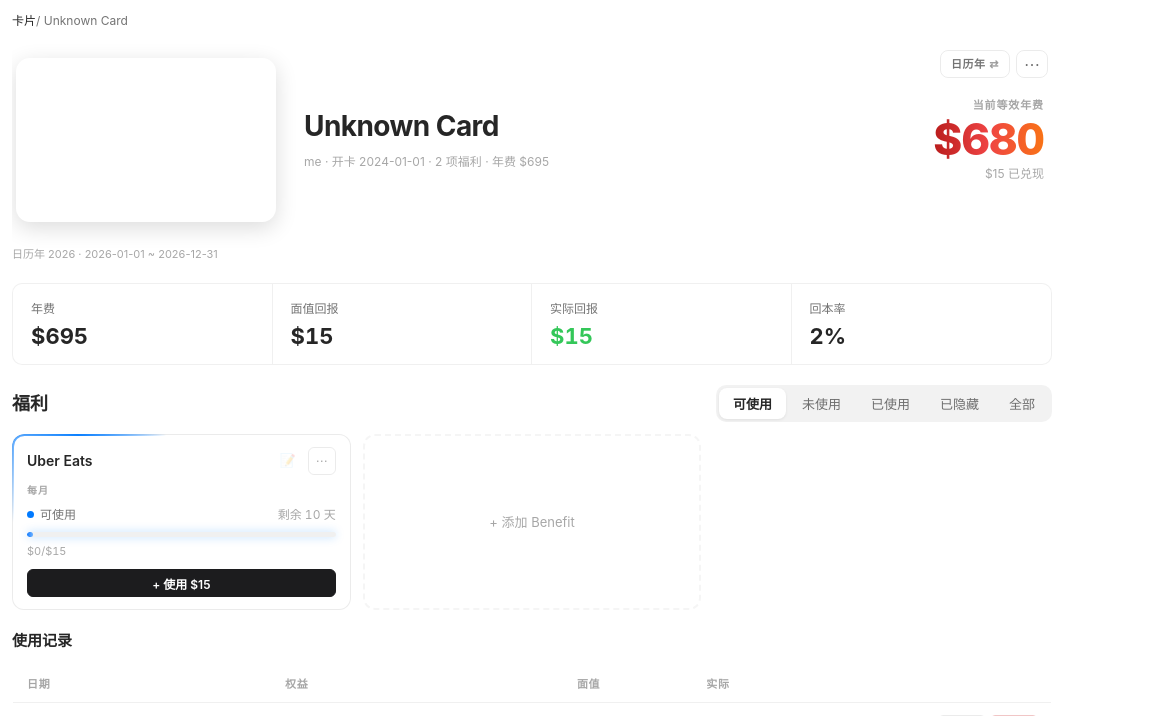
CardDetail filter integration › switches to 已使用 and shows aggregated monthly card
Click the button with test id "filter-pill-used" at (890, 403), box [857,388,924,419]
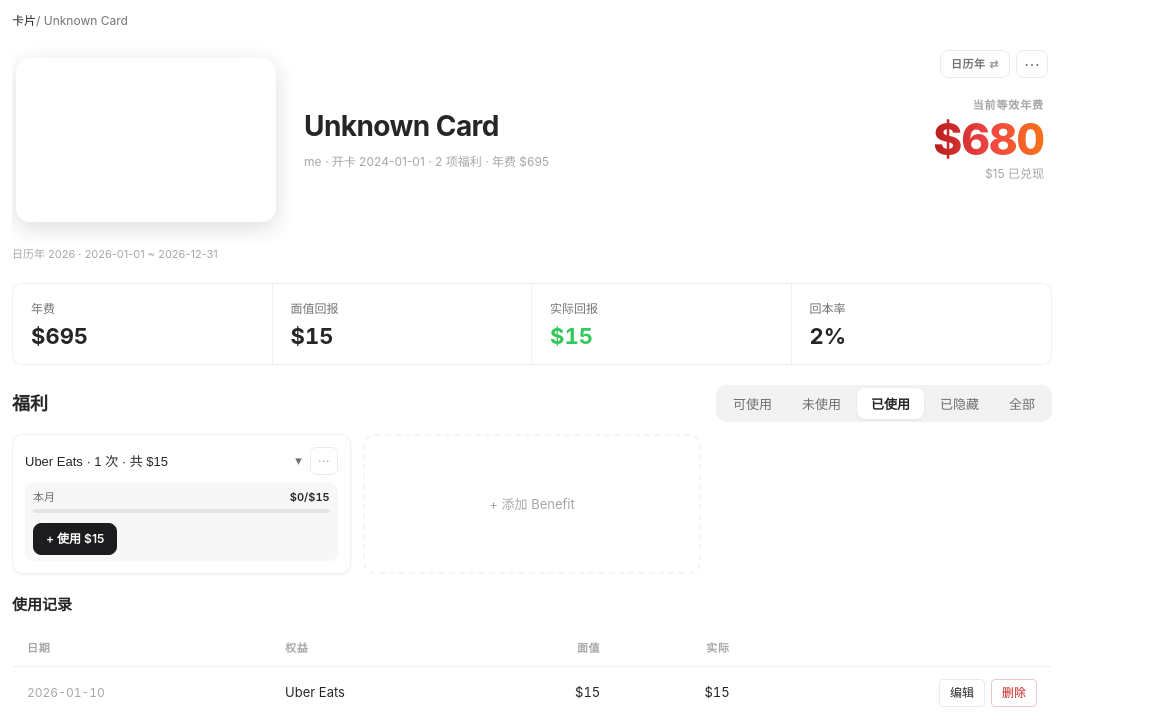
Check: the element with test id "benefits-grid" shows "Uber Eats", box [25,451,302,470]
Check: the element with test id "benefits-grid" shows "1 次", box [25,451,302,470]
